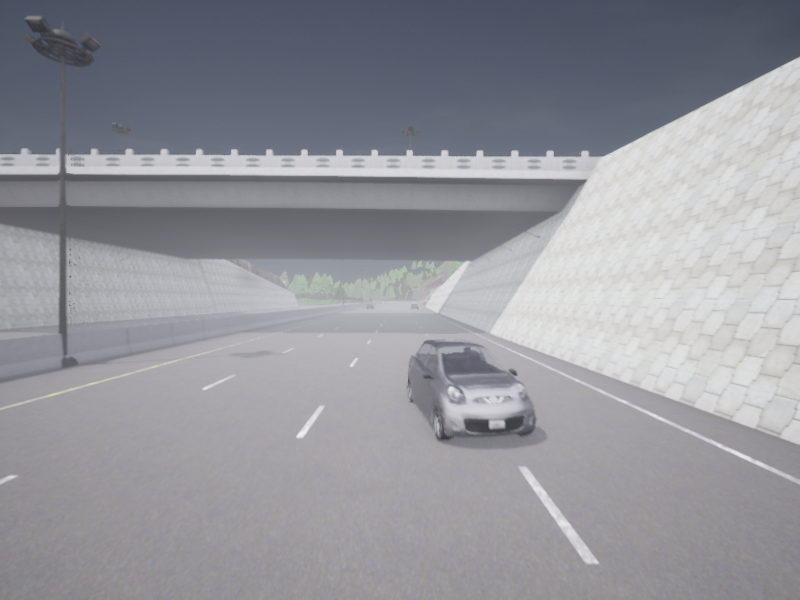vehicle: (406, 339, 533, 440), (410, 303, 417, 309), (367, 303, 374, 308)
